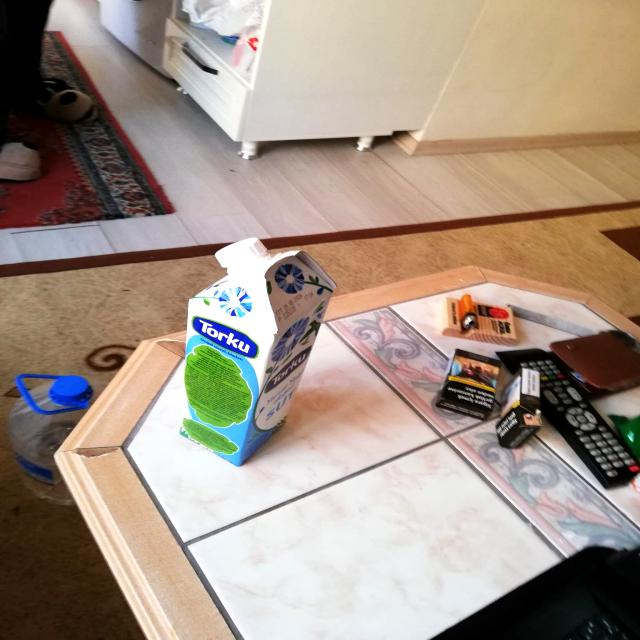milk: (168, 231, 336, 467)
